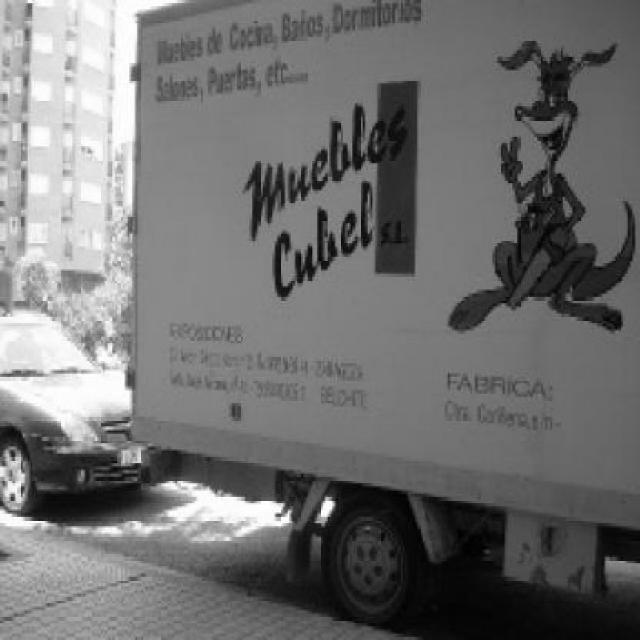Box Truck: (128, 0, 640, 630)
